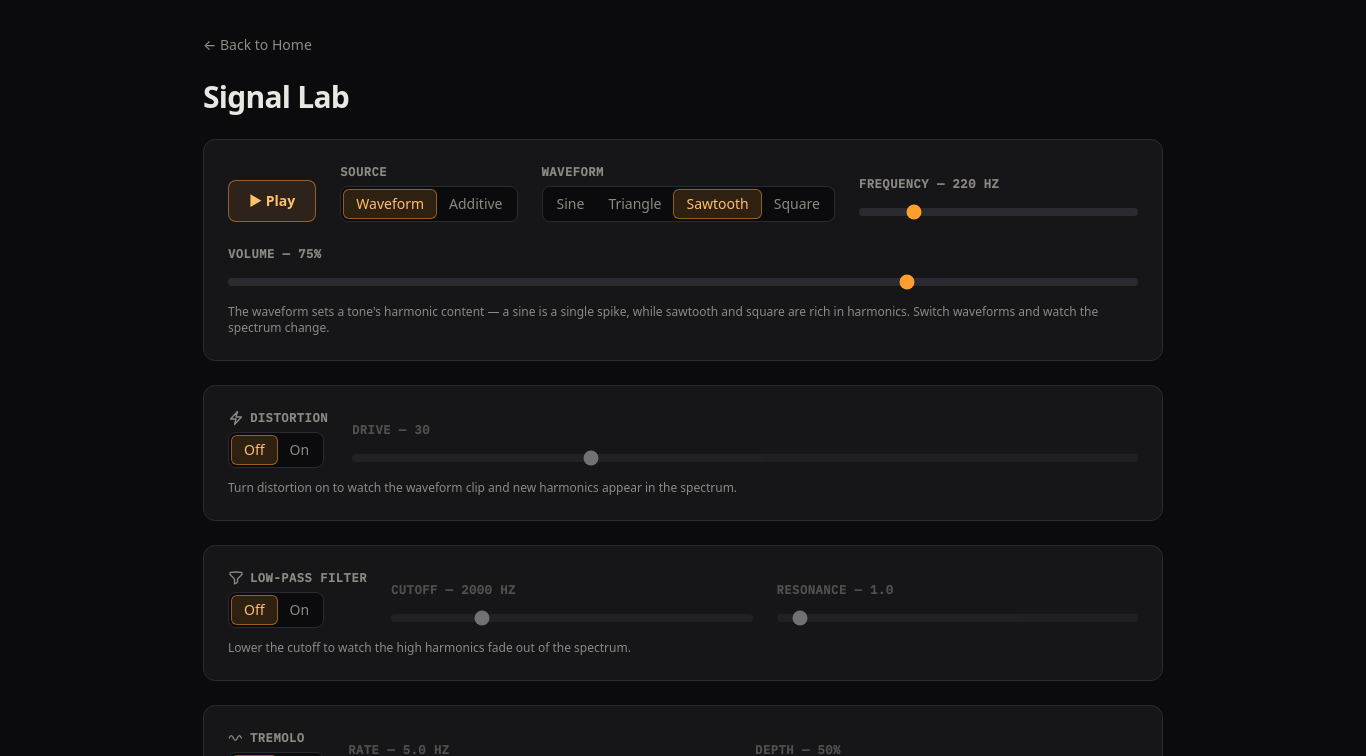
SignalLab › harmonic slider bank › switching to Additive mode shows 8 harmonic sliders
The image size is (1366, 756).
Step 1. Click the radio button labelled "Additive" → coordinates (476, 204), box [437,189,515,219]
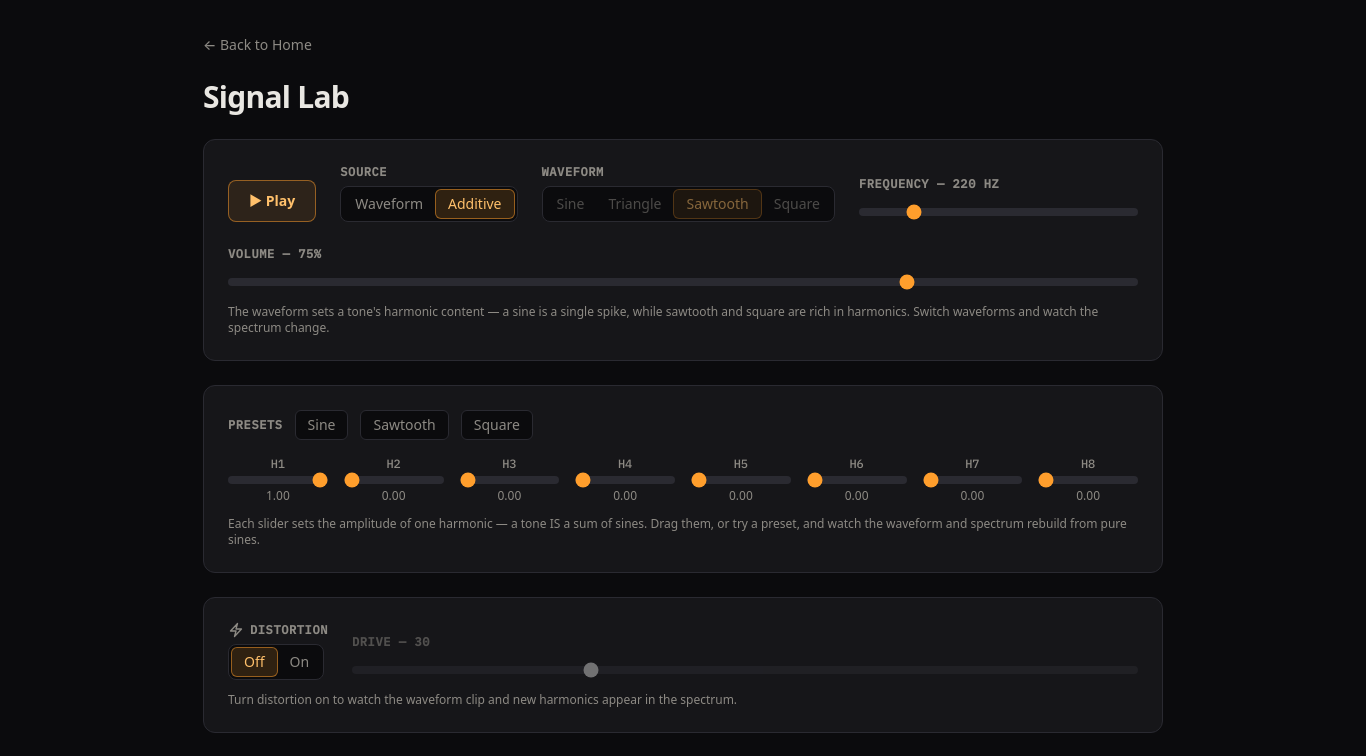
expect the number of sliders labelled "H1" is 8: met
